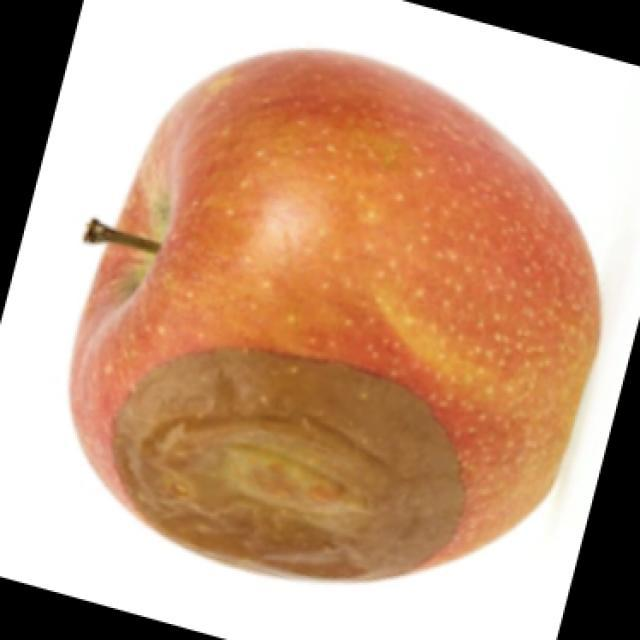Rotten: (95, 60, 613, 582)
